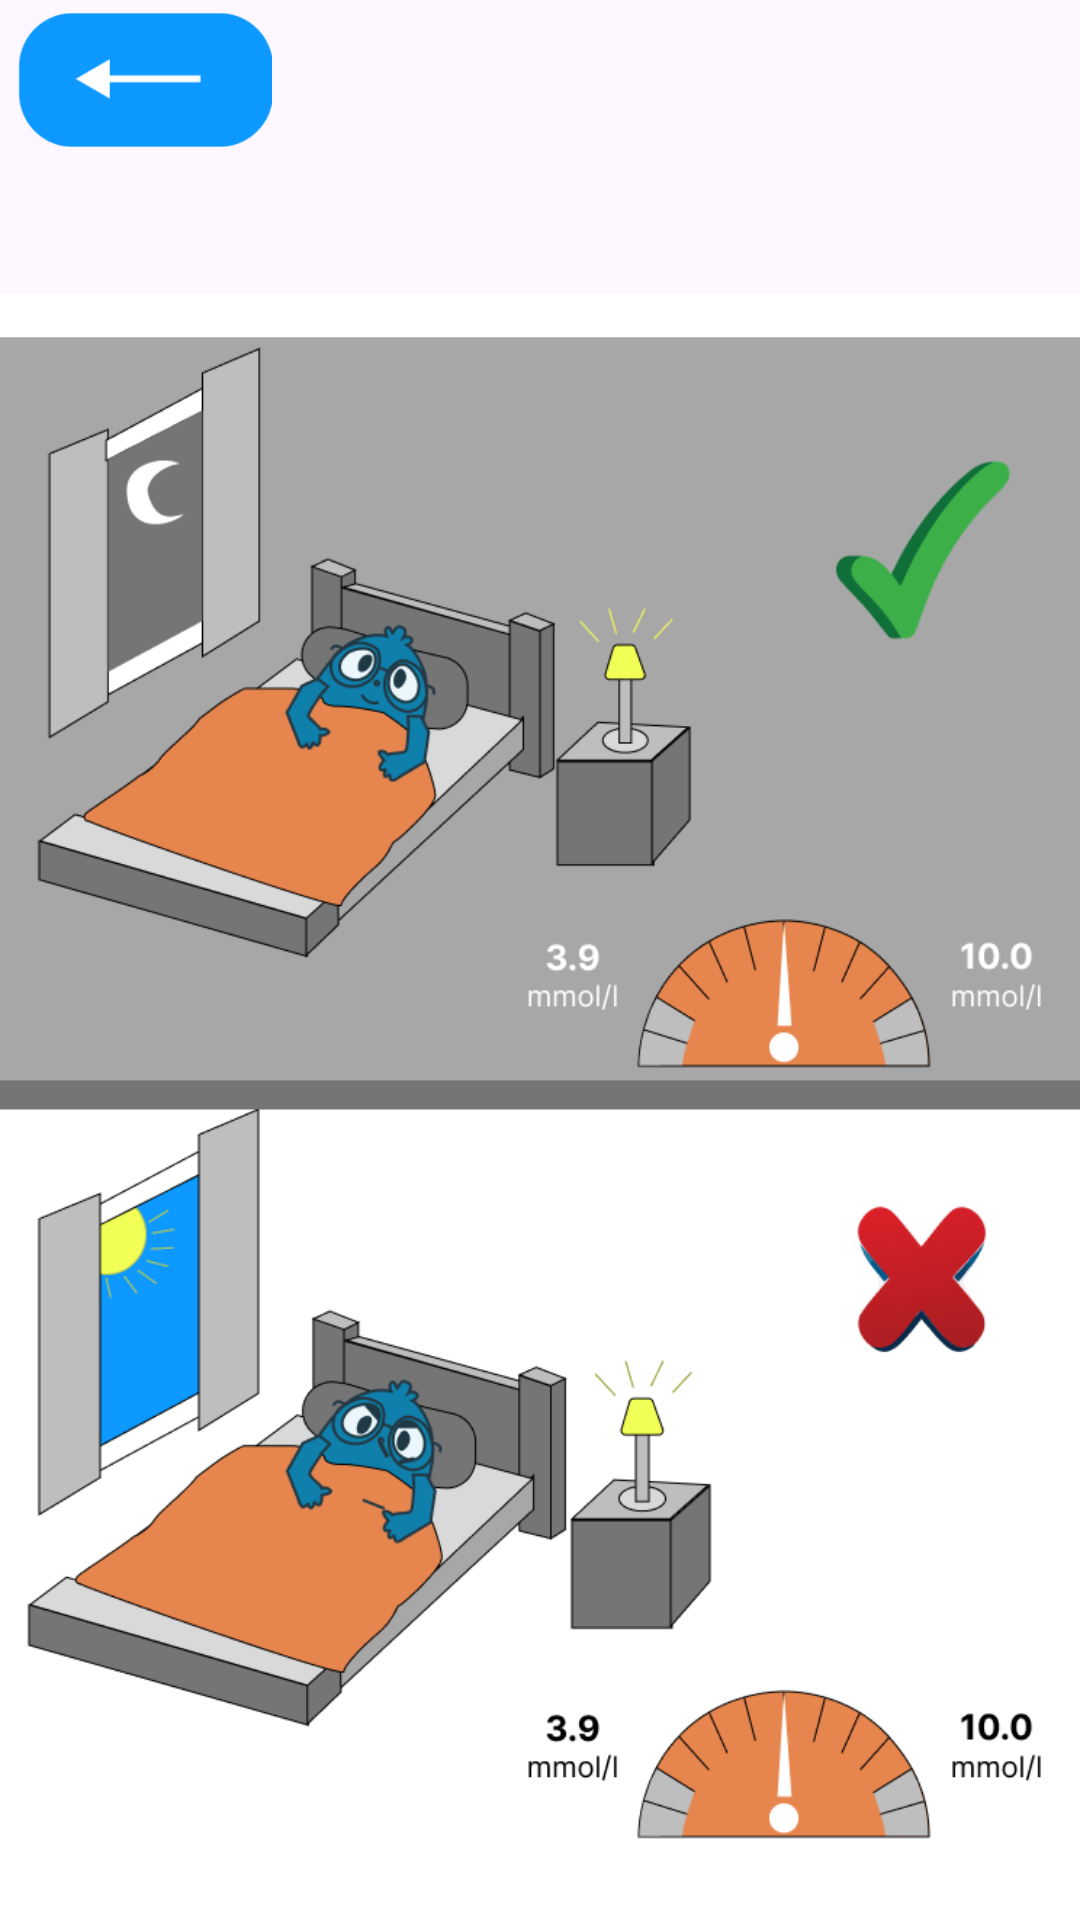

Where icons sit on this 1080*1920 app screen, as (x1, y1, x2, y2):
back: (18, 13, 272, 147)
